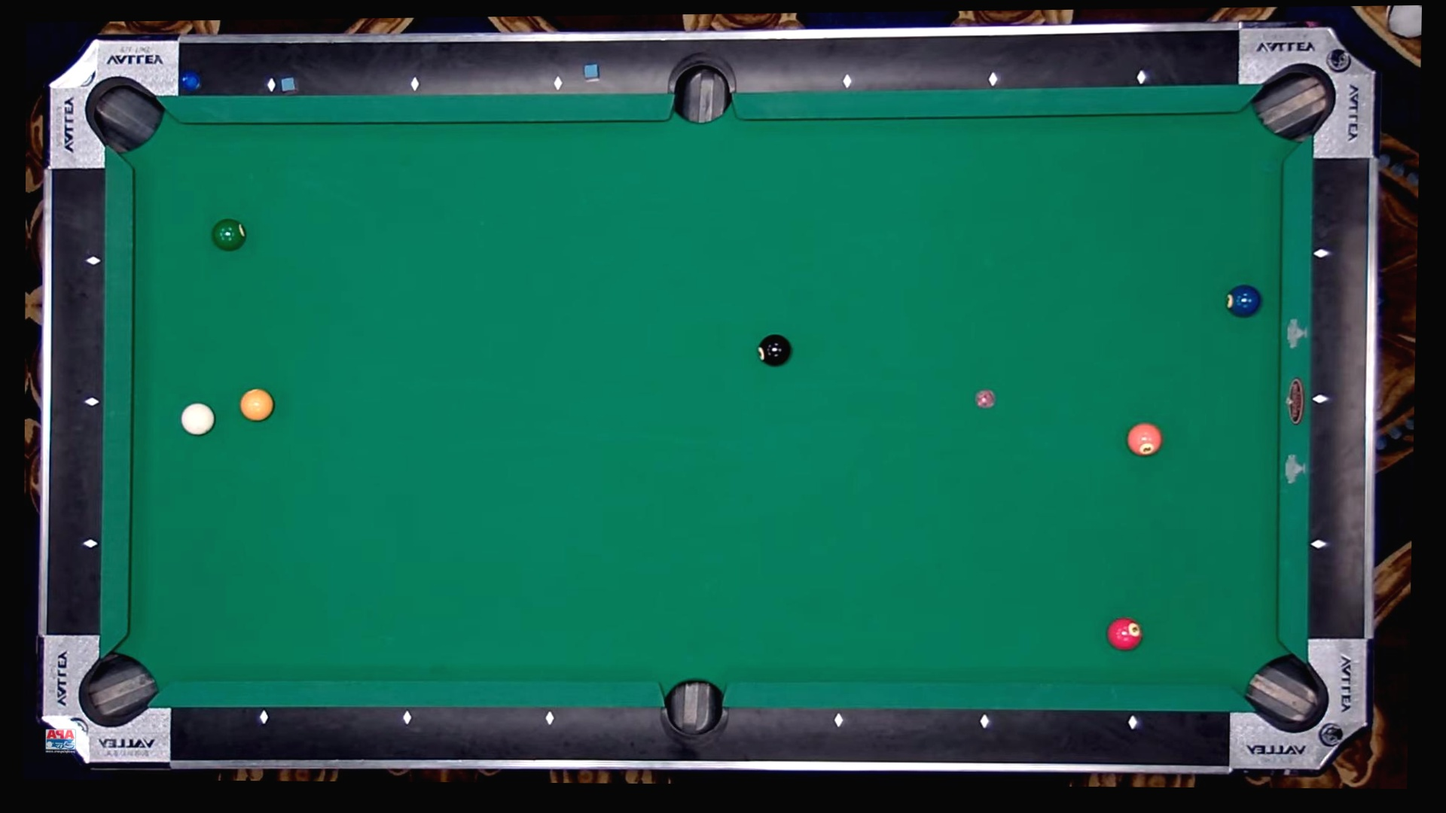Black: (988, 75, 999, 86), (842, 77, 853, 88), (266, 80, 277, 91), (85, 539, 96, 550), (403, 712, 414, 723), (834, 714, 845, 725), (1314, 540, 1325, 550), (1315, 393, 1325, 404), (1317, 247, 1327, 258), (1136, 72, 1146, 83), (553, 78, 563, 89), (410, 79, 420, 90), (89, 255, 99, 266), (545, 713, 555, 724), (980, 716, 990, 727), (86, 397, 96, 407), (260, 712, 270, 722), (1128, 718, 1138, 728)
Cue: (210, 217, 247, 252), (1127, 422, 1163, 456), (1225, 284, 1261, 318), (239, 387, 274, 421), (1106, 617, 1142, 650)
Solid: (755, 334, 792, 367)
Stripe: (179, 402, 216, 436)
